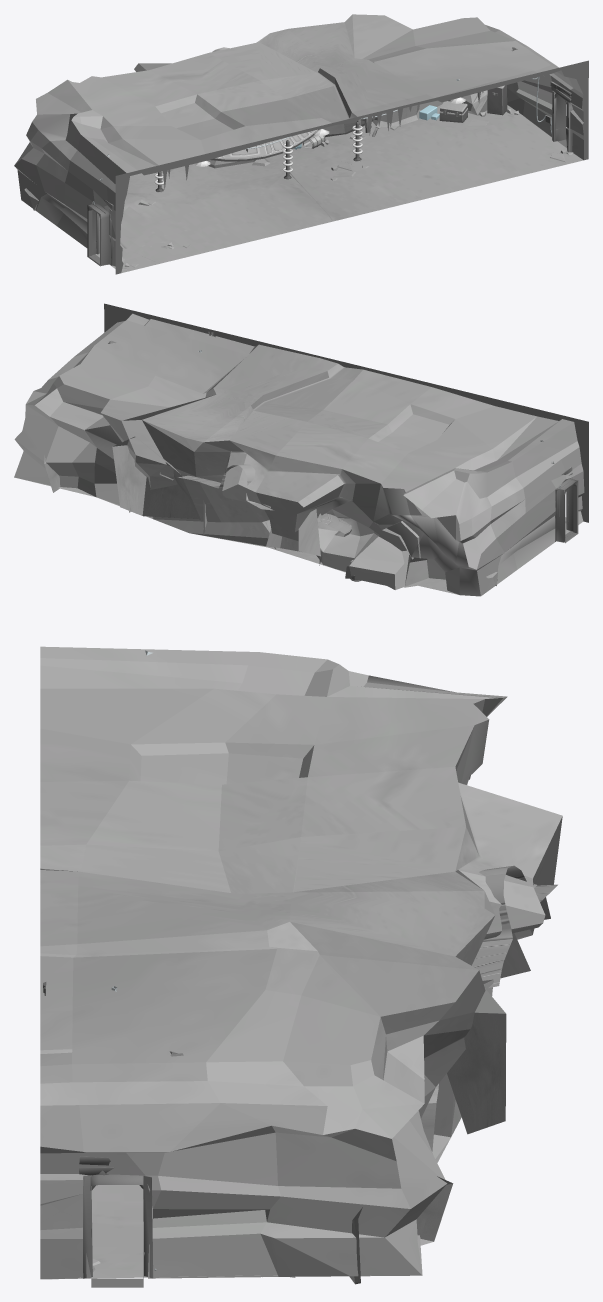
Rendered from MSH_QuestUFO_L1_R3_optimized.fbx.
3 views of the same model, one above another, from view 1: azimuth 30°, elevation 25°; view 2: azimuth 150°, elevation 25°; view 3: azimuth 270°, elevation 25° (orthographic). The views are drawn at different scales.
Visible parts, largest first — view 1: lightmap1, lightmap0; view 2: lightmap1, lightmap0; view 3: lightmap1, lightmap0.
Boxes of the visible parts, x1,y1,x2,y2 form: lightmap1: (14, 14, 588, 274); lightmap0: (87, 47, 572, 266); lightmap1: (14, 303, 588, 596); lightmap0: (108, 340, 578, 581); lightmap1: (40, 646, 562, 1284); lightmap0: (79, 650, 557, 1287).
Bounding box in the file's own units: 30.95 × 6.44 × 14.62.
2 materials, 1 textured.
